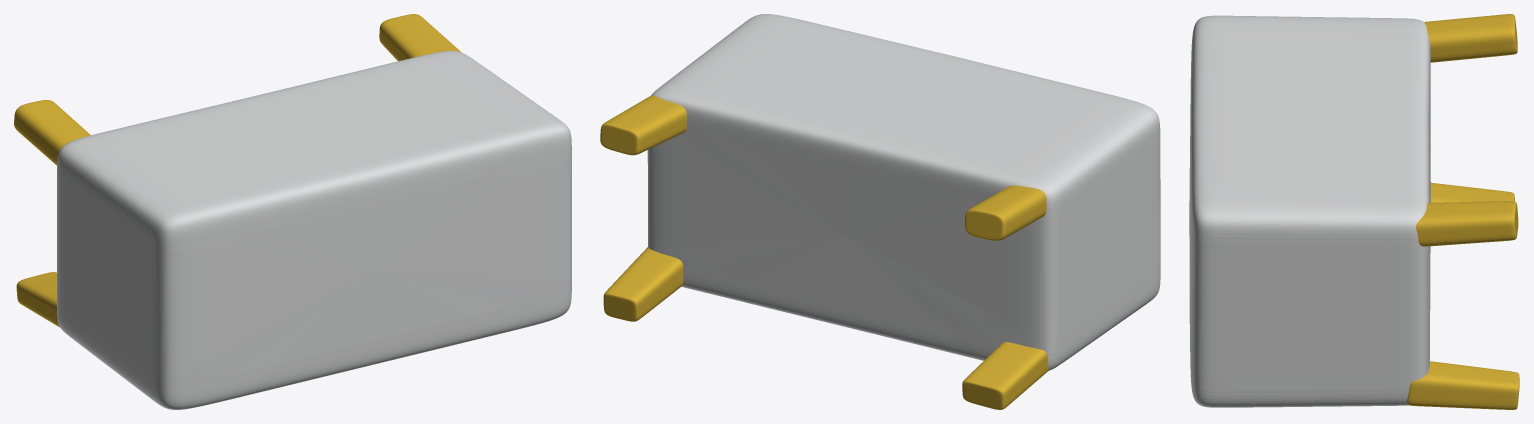
The model's file is 15_treasure_chest.glb.
3 renders of one model, left to right at view 1: azimuth 30°, elevation 25°; view 2: azimuth 150°, elevation 25°; view 3: azimuth 270°, elevation 25°, orthographic. The views are drawn at different scales.
Visible parts, largest first — view 1: superquadric_0, superquadric_4, superquadric_3, superquadric_2; view 2: superquadric_0, superquadric_2, superquadric_1, superquadric_3, superquadric_4; view 3: superquadric_0, superquadric_1, superquadric_3, superquadric_4, superquadric_2.
Part boxes in pixels (bbox=[...]): superquadric_0: bbox=[57, 51, 571, 409]; superquadric_4: bbox=[14, 100, 90, 165]; superquadric_3: bbox=[379, 14, 460, 61]; superquadric_2: bbox=[16, 272, 59, 327]; superquadric_0: bbox=[647, 14, 1160, 370]; superquadric_2: bbox=[962, 342, 1048, 409]; superquadric_1: bbox=[603, 247, 683, 321]; superquadric_3: bbox=[600, 95, 687, 155]; superquadric_4: bbox=[965, 185, 1046, 240]; superquadric_0: bbox=[1189, 15, 1430, 407]; superquadric_1: bbox=[1407, 361, 1519, 409]; superquadric_3: bbox=[1416, 201, 1518, 246]; superquadric_4: bbox=[1424, 14, 1517, 62]; superquadric_2: bbox=[1431, 182, 1514, 202].
Bounding box in the file's own units: 1 × 0.4576 × 0.676.
